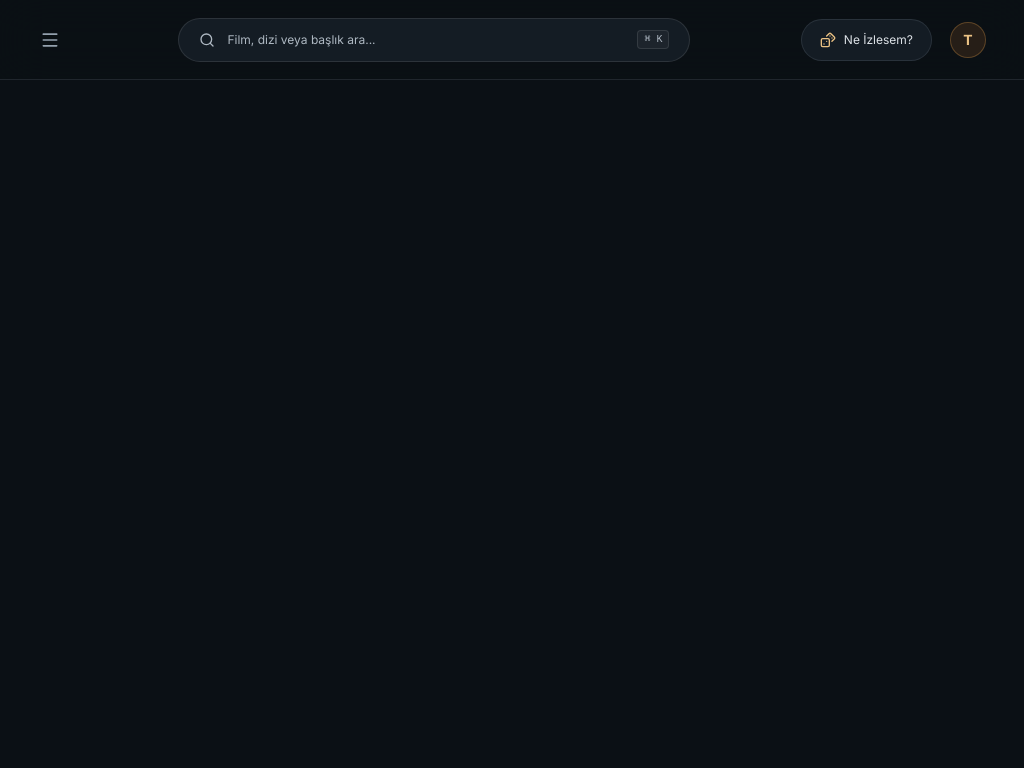
Test case: Navbar user menu › closes when the user clicks elsewhere
The width and height of the screenshot is (1024, 768).
Click the button named "Kullanıcı Menüsü": {"x": 968, "y": 40} [944, 16, 992, 64]
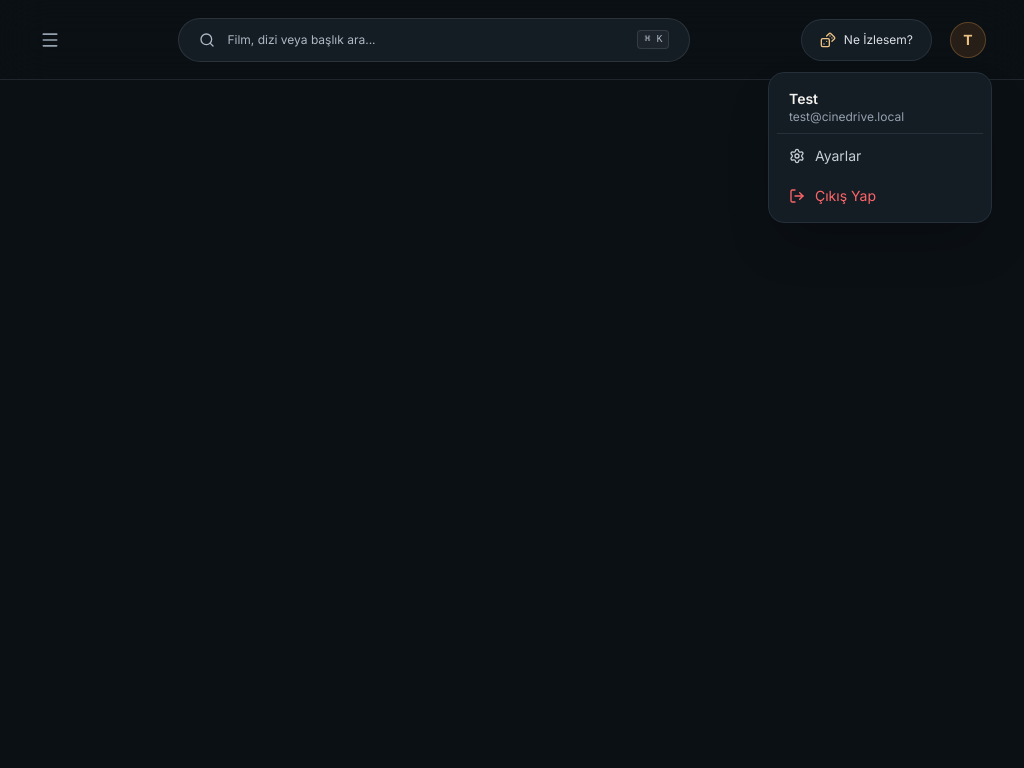
Check: the menu is shown, box [768, 72, 992, 222]
Press the mouse on the element that starts with "Film, dizi veya başlık ara...": {"x": 512, "y": 384} [0, 0, 1023, 767]
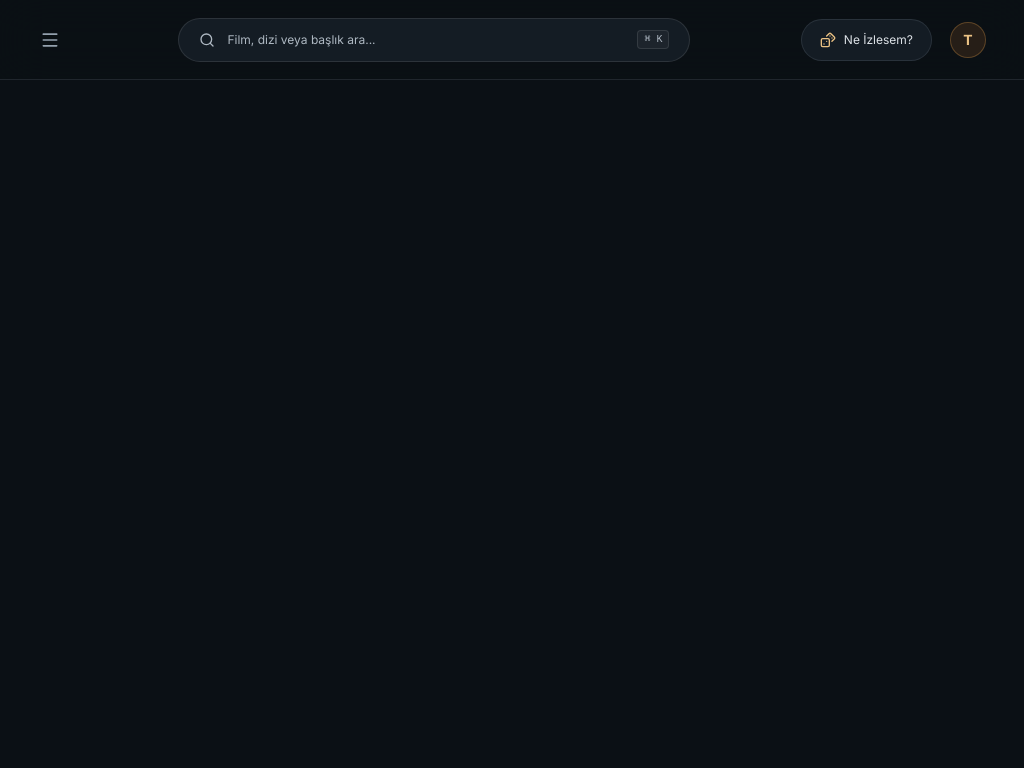
Check: the menu is gone
